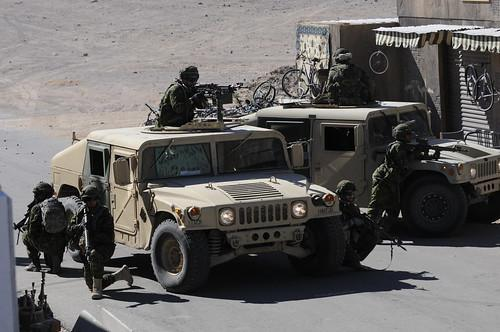armored_car: (46, 60, 340, 298), (222, 92, 496, 243)
